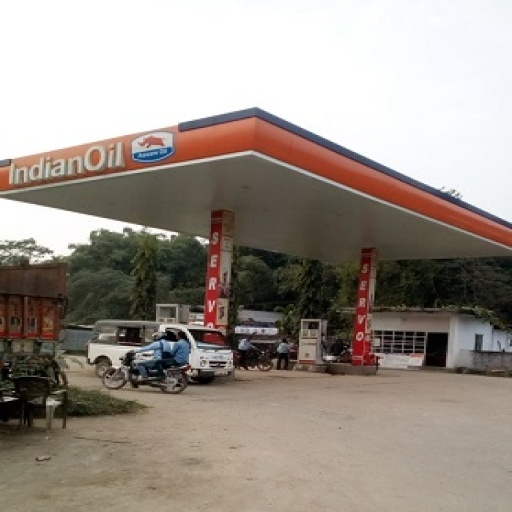roof: (3, 107, 512, 267)
